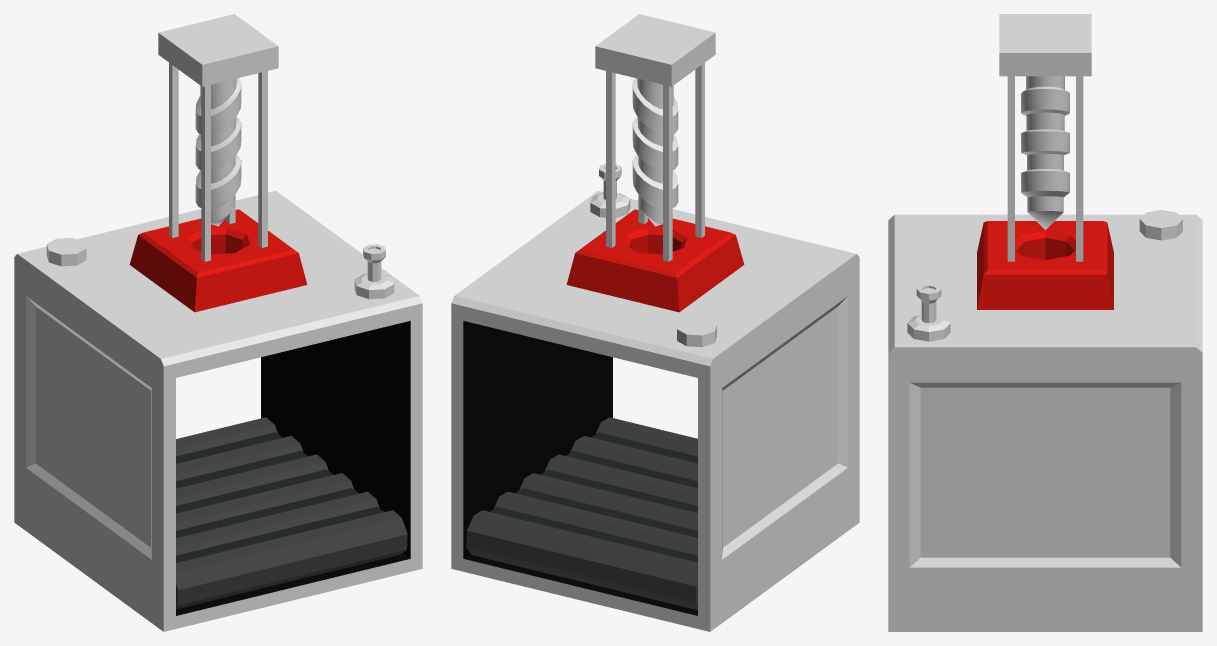
Rendered from Stanok.fbx.
3 views of the same model, side by side, from view 1: azimuth 30°, elevation 25°; view 2: azimuth 150°, elevation 25°; view 3: azimuth 270°, elevation 25° (orthographic). The views are drawn at different scales.
Visible parts, largest first — view 1: Cube, wheels_6_, base, Cube.001, Cube.002, Cone, wheels_5_, wheels_4_, wheels_3_, wheels_2_, wheels_1_, Cylinder.001 (+1 smaller); view 2: Cube, wheels_1_, Cube.001, base, Cube.002, Cone, wheels_2_, wheels_3_, wheels_4_, wheels_5_, wheels_6_, Cylinder (+1 smaller); view 3: Cube, Cone, Cube.001, Cube.002, Cylinder.001, Cylinder.
Boxes of the visible parts, x1,y1,x2,y2 form: Cube: (14,191,422,631); wheels_6_: (176,510,407,609); base: (176,432,384,562); Cube.001: (158,14,278,86); Cube.002: (169,63,267,261); Cone: (195,78,241,226); wheels_5_: (176,491,379,555); wheels_4_: (176,473,353,530); wheels_3_: (176,454,328,505); wheels_2_: (176,436,302,480); wheels_1_: (176,417,277,456); Cylinder.001: (354,244,394,299); Cube: (451,191,859,631); wheels_1_: (466,510,697,610); Cube.001: (595,14,715,86); base: (490,432,697,562); Cube.002: (606,63,704,261); Cone: (632,78,678,226); wheels_2_: (494,491,697,555); wheels_3_: (519,473,697,530); wheels_4_: (545,454,697,505); wheels_5_: (570,436,697,481); wheels_6_: (596,417,697,456); Cylinder: (677,318,716,347); Cube: (888,214,1202,631); Cone: (1021,76,1069,229); Cube.001: (999,14,1091,76); Cube.002: (1007,76,1083,261); Cylinder.001: (907,283,950,341); Cylinder: (1139,210,1182,240).
Bounding box in the file's own units: 100 × 187 × 100.
